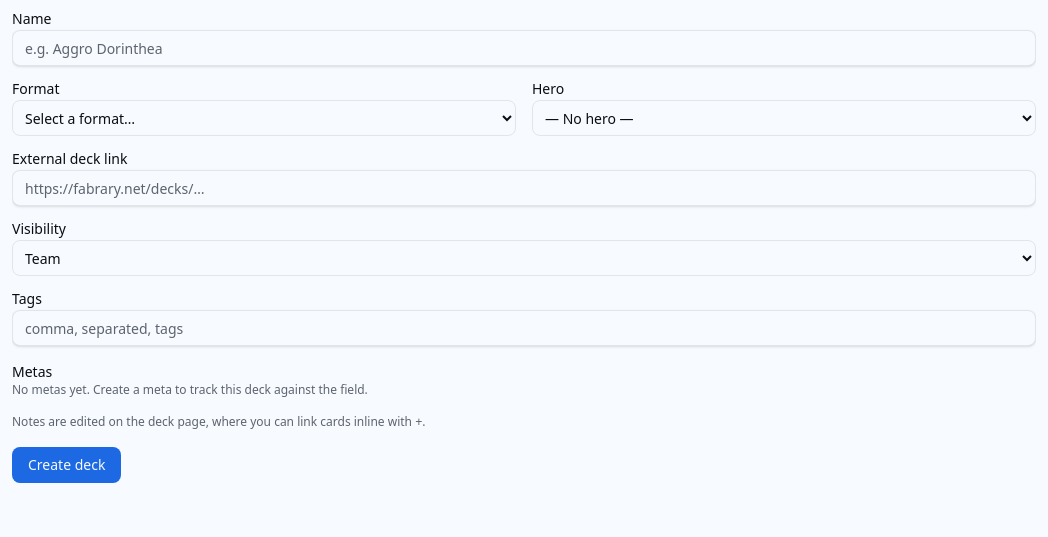
Test: DeckForm › validates that a name is required before submitting
Click the button "Create deck": (67, 465) [12,447,121,483]
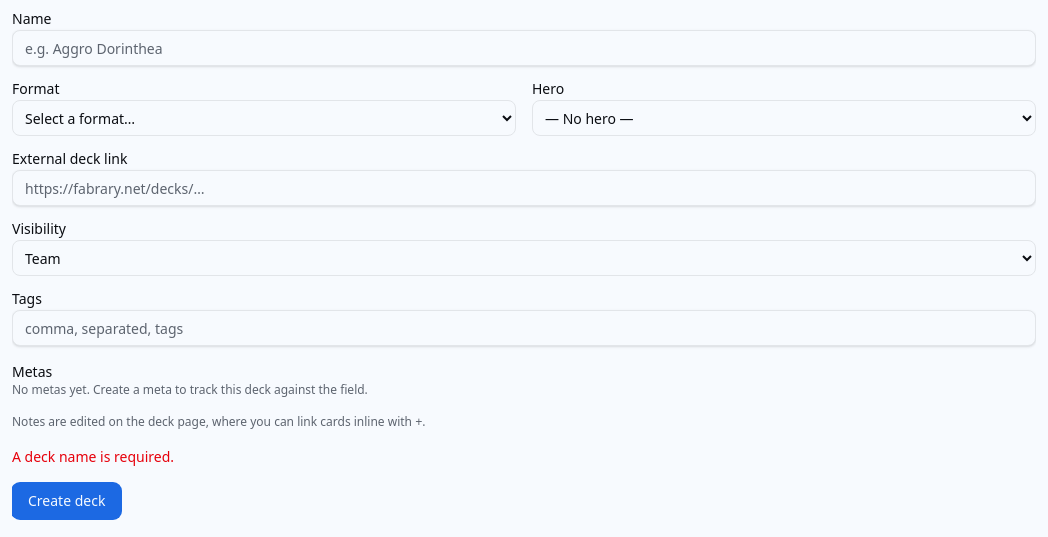
Now the message shows "name is required", box [12,447,174,466]
